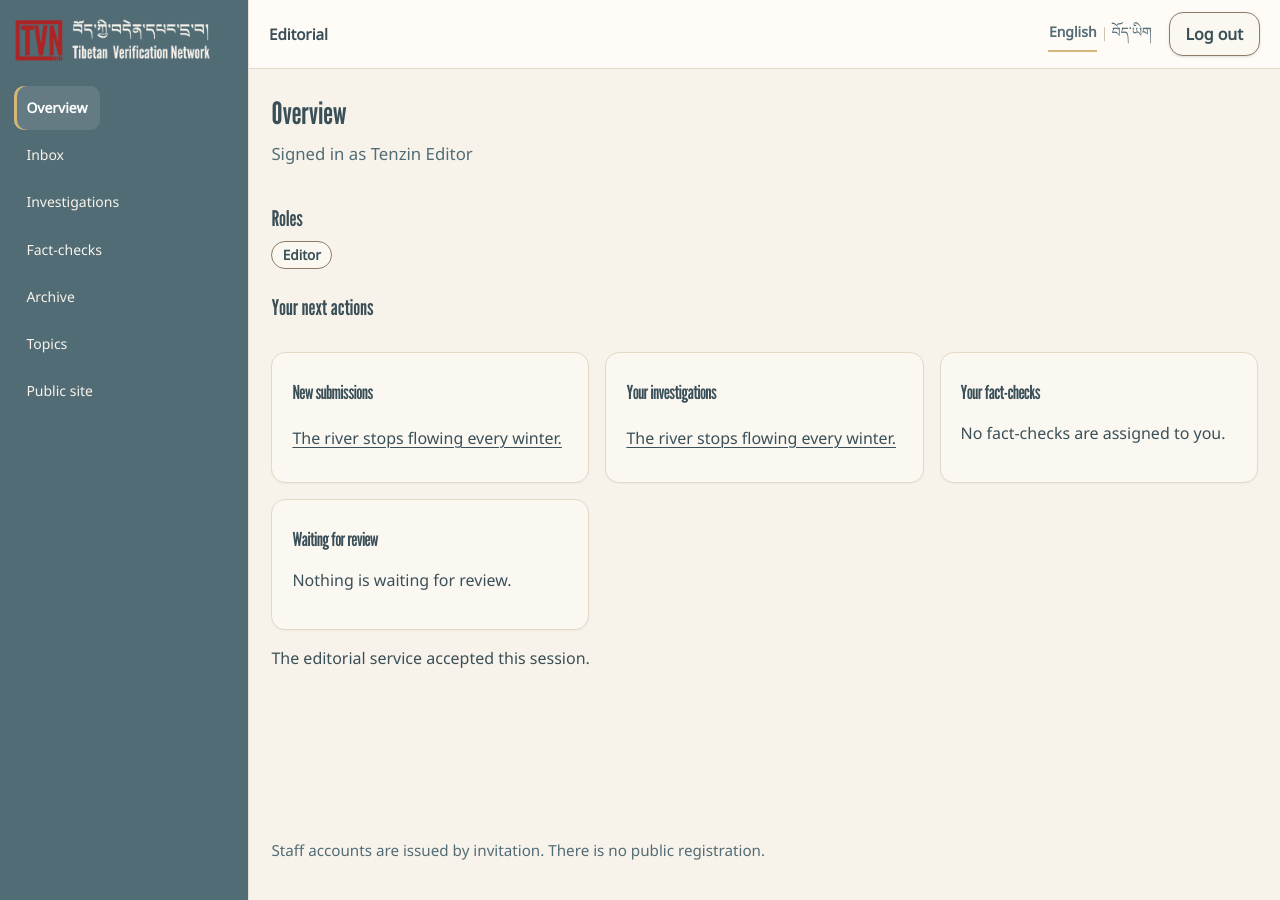
protected editorial shell › logs out with the CSRF header and rejects the signed-in shell afterward
The image size is (1280, 900).
Step 1. Click the button "Log out" → point(1214, 34), box [1169, 12, 1260, 56]
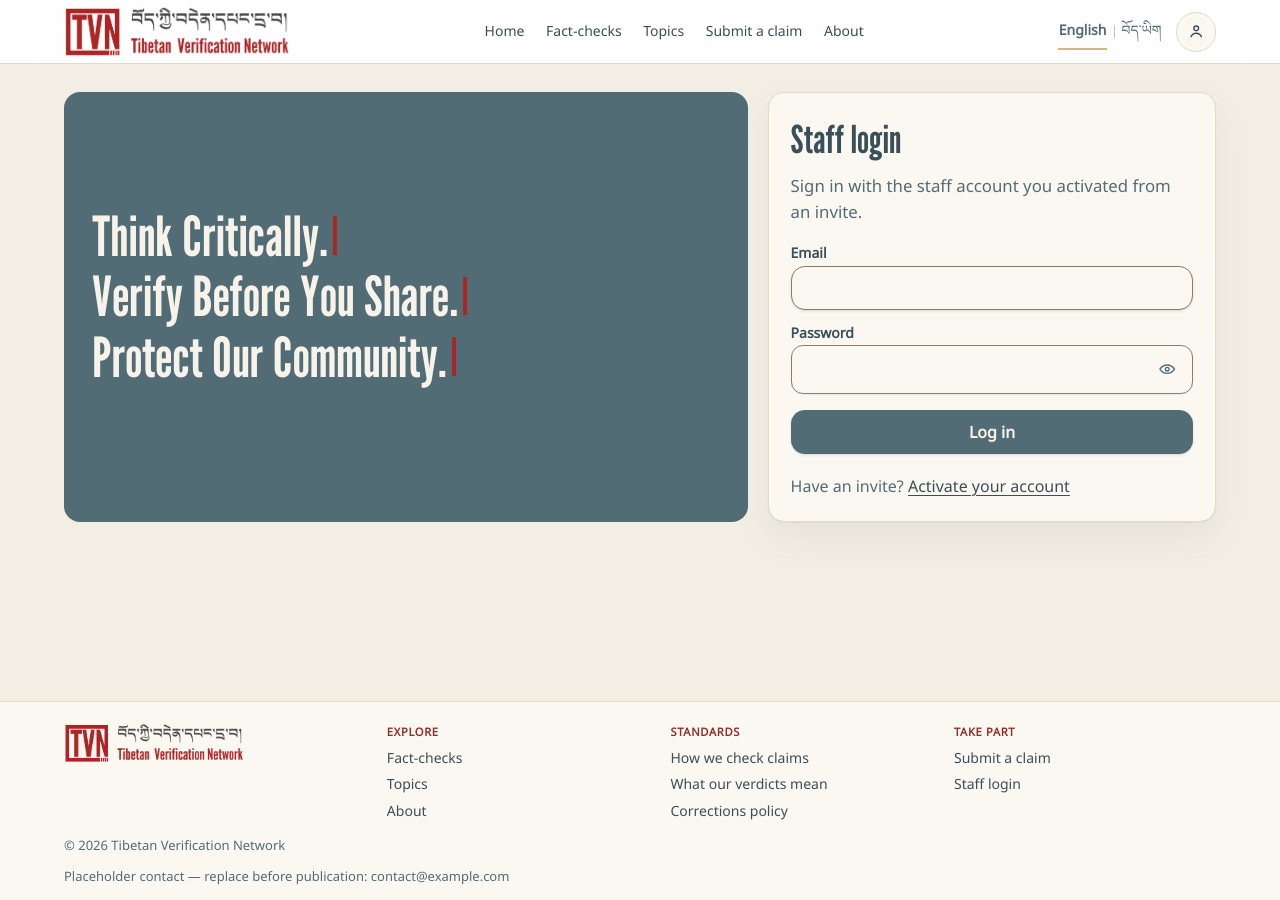
Now the heading "Staff login" is shown, box [791, 116, 902, 162]
Now the link "Inbox" is gone
